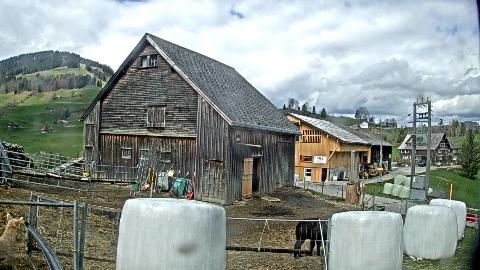car: (418, 162, 426, 166)
sheep: (293, 218, 333, 258), (0, 214, 30, 260)
